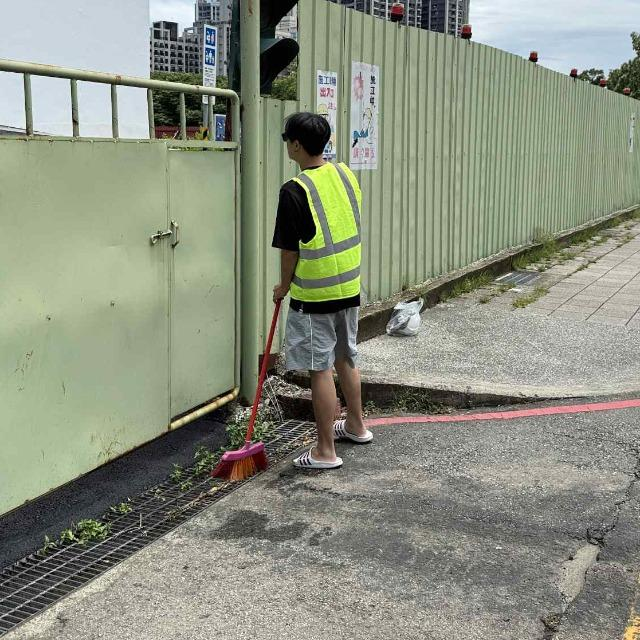NoHelmet: (280, 113, 334, 164)
Vest: (279, 167, 368, 307)
